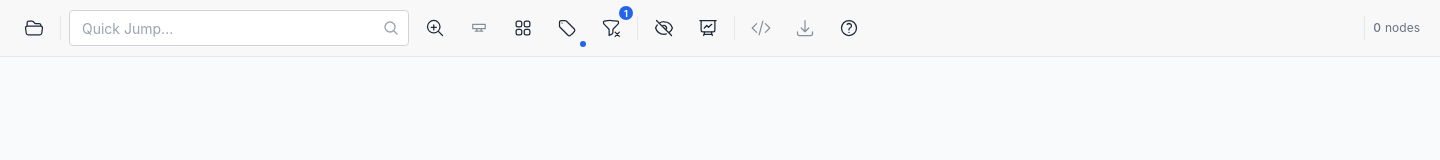
Scenario: leave confirmation › focuses Cancel when Load New Project asks to leave a modified view
Click the button named "Load New Project" at [34, 28], box x1=16 y1=10 x2=52 y2=46
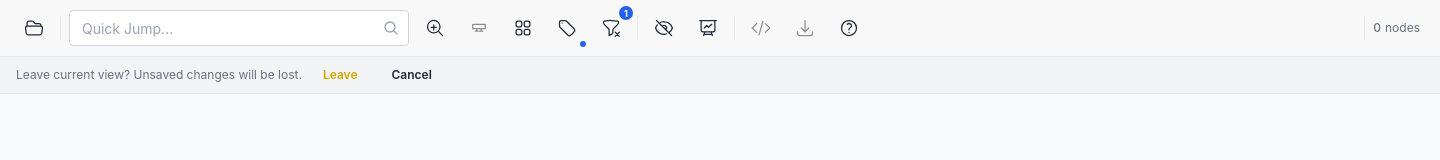
expect the button "Cancel" is shown: met, box x1=378 y1=63 x2=445 y2=87
